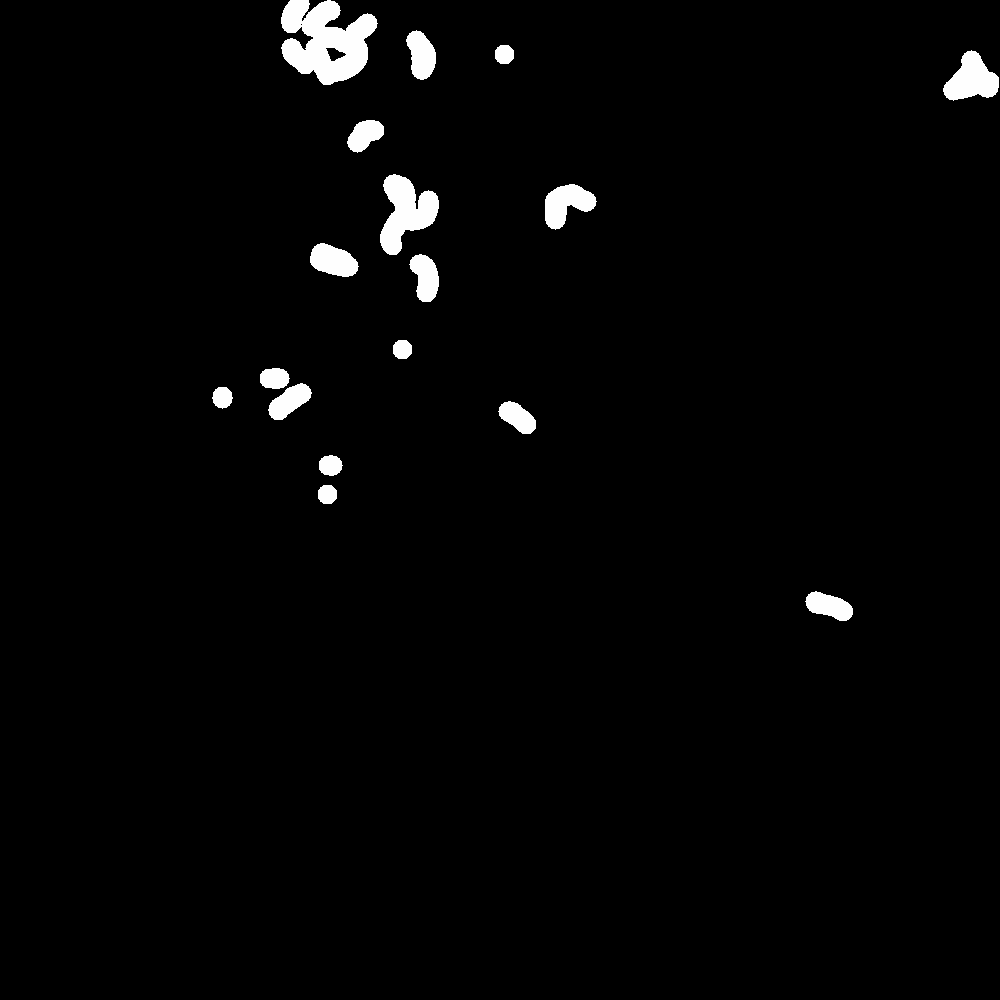illegal: (276, 3, 378, 35), (299, 242, 349, 280), (303, 450, 347, 478)
